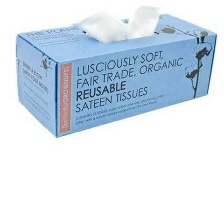book: (10, 10, 222, 142)
tissue: (66, 0, 168, 48)
